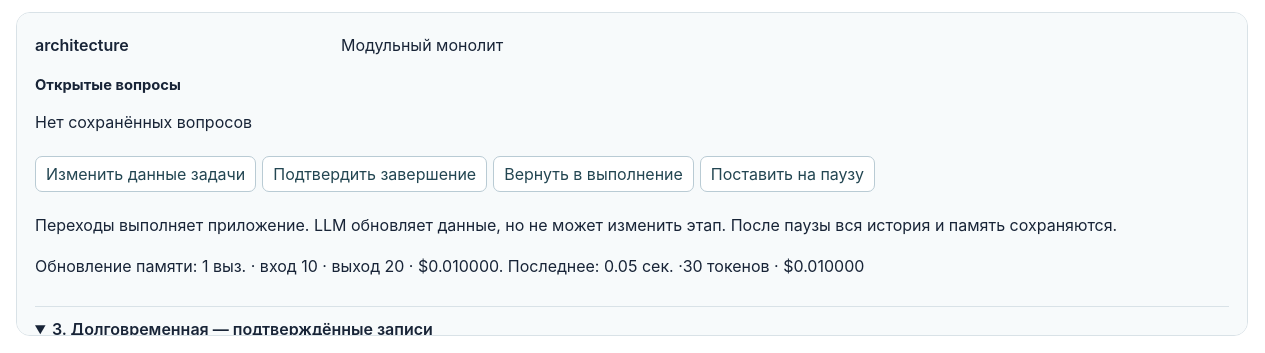
Test case: explicit memory layers › finishes validation and renders the returned done state
This screenshot has width=1265, height=353.
(page scrolled)
What coordinates should you click on to do the following:
click the button "Подтвердить завершение"
I would click on:
 (375, 174)
Its box is [262,156,487,192].
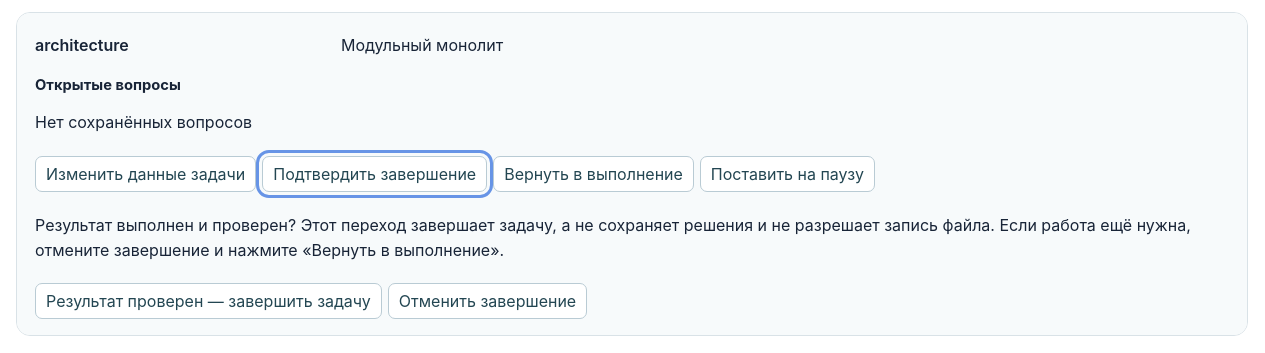
What coordinates should you click on to do the following:
click the button "Результат проверен — завершить задачу"
I would click on:
 (208, 301)
Its box is [35,283,382,319].
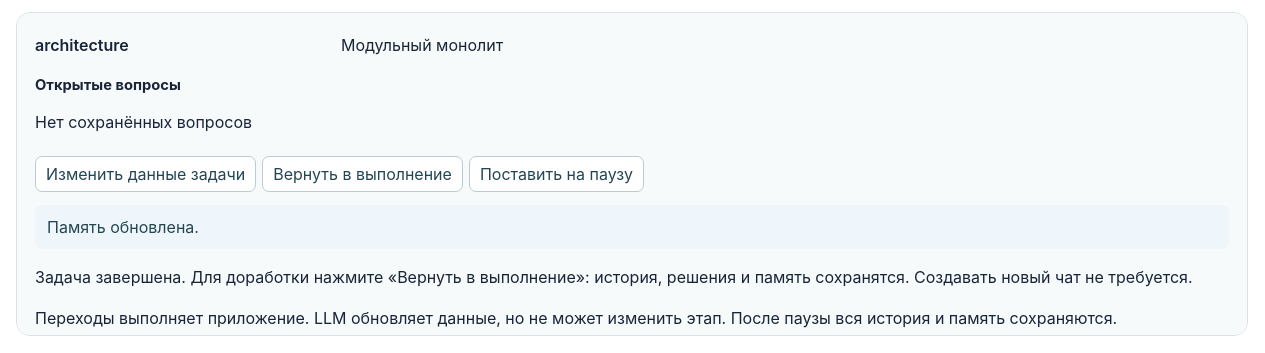
Expected: the button "Вернуть в выполнение" is enabled, [262,156,463,192]
Result: the button "Подтвердить завершение" is gone
